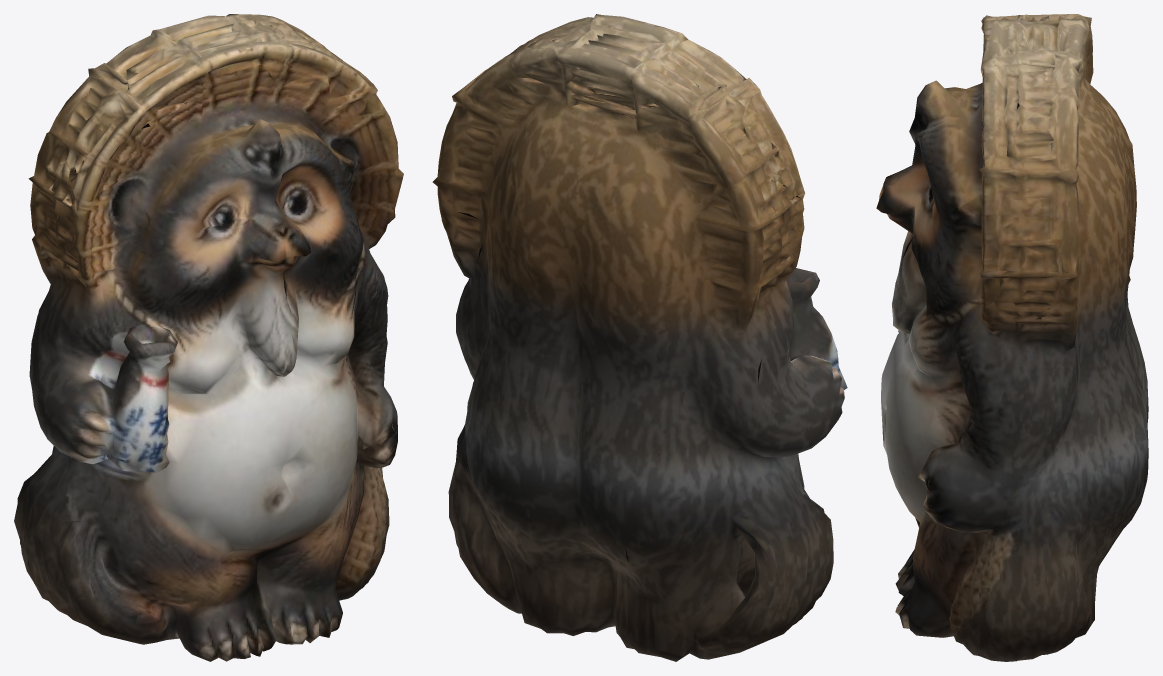
Rendered from tanuki.glb.
The picture shows the model from 3 angles, left to right: view 1: azimuth 30°, elevation 25°; view 2: azimuth 150°, elevation 25°; view 3: azimuth 270°, elevation 25°; orthographic projection. The views are drawn at different scales.
Visible parts, largest first — view 1: prop; view 2: prop; view 3: prop.
Boxes of the visible parts, x1=… form: prop: x1=14, y1=14, x2=403, y2=661; prop: x1=432, y1=14, x2=847, y2=661; prop: x1=876, y1=14, x2=1148, y2=661.
Bounding box in the file's own units: 0.6408 × 0.9998 × 0.4304.
1 material, 1 textured.
